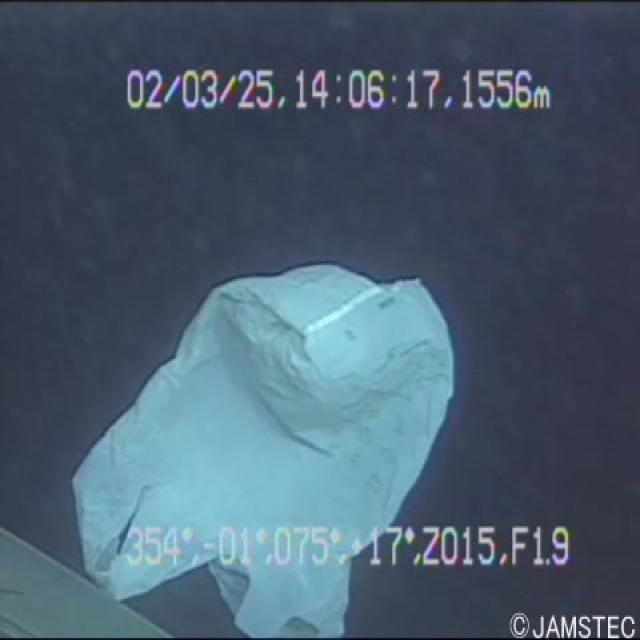plastic: (68, 228, 465, 638)
